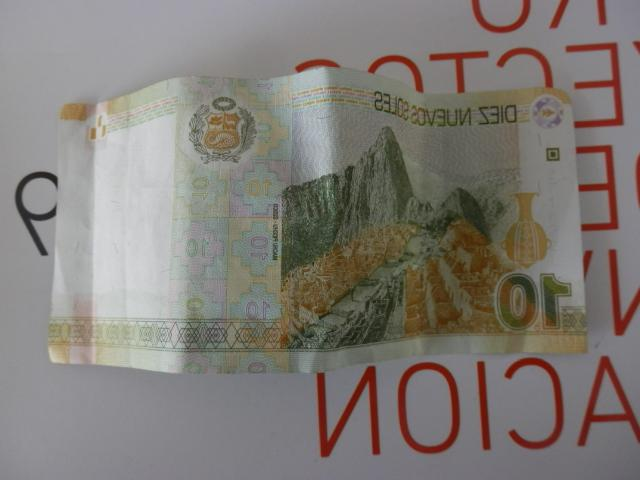B10: (48, 72, 584, 373)
